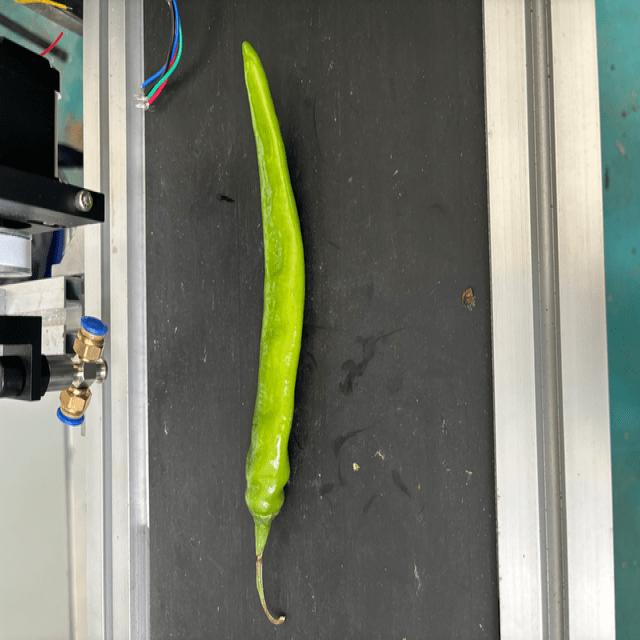chili: (239, 38, 307, 527)
